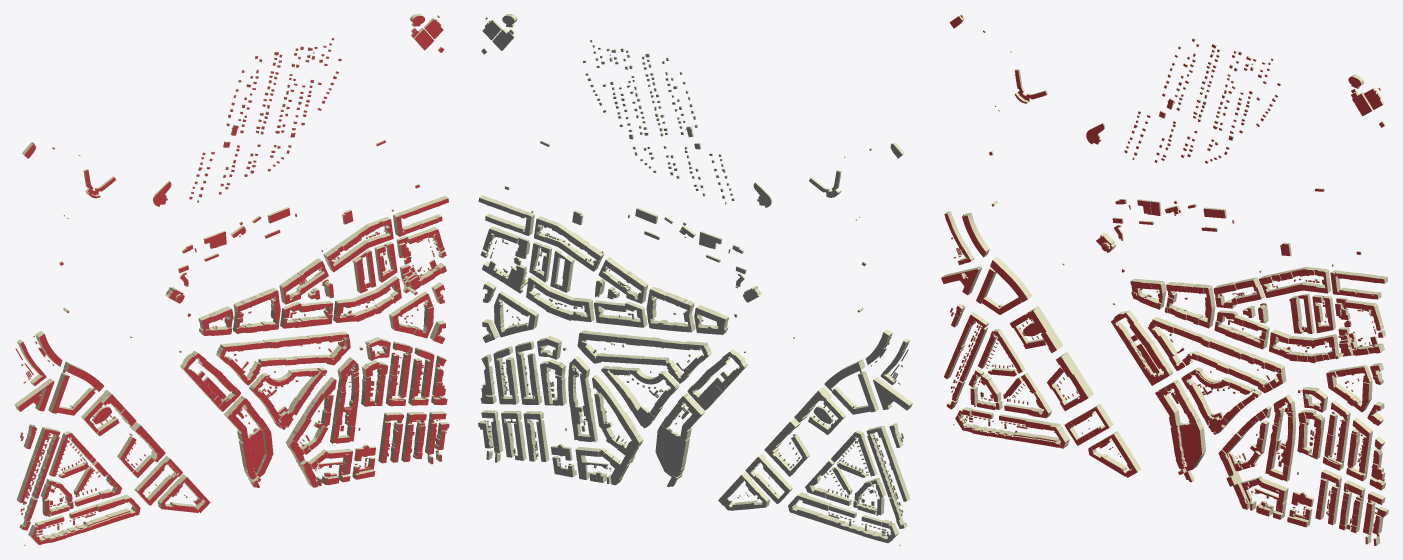
The picture shows the model from 3 angles, left to right: view 1: azimuth 30°, elevation 25°; view 2: azimuth 150°, elevation 25°; view 3: azimuth 330°, elevation 25°; orthographic projection. The views are drawn at different scales.
Visible parts, largest first — view 1: NL.IMBAG.Pand.0599100000702528-722, NL.IMBAG.Pand.0599100000750780-674, NL.IMBAG.Pand.0599100000618753-409; view 2: NL.IMBAG.Pand.0599100000702528-722, NL.IMBAG.Pand.0599100000750780-674, NL.IMBAG.Pand.0599100000618753-409; view 3: NL.IMBAG.Pand.0599100000702528-722, NL.IMBAG.Pand.0599100000750780-674, NL.IMBAG.Pand.0599100000752381-530, NL.IMBAG.Pand.0599100000759317-389, NL.IMBAG.Pand.0599100000675824-412, NL.IMBAG.Pand.0599100000618753-409.
Boxes of the visible parts, x1,y1,x2,y2 form: NL.IMBAG.Pand.0599100000702528-722: (238, 426, 273, 480); NL.IMBAG.Pand.0599100000750780-674: (286, 438, 318, 487); NL.IMBAG.Pand.0599100000618753-409: (14, 378, 54, 411); NL.IMBAG.Pand.0599100000702528-722: (655, 424, 690, 477); NL.IMBAG.Pand.0599100000750780-674: (609, 435, 643, 485); NL.IMBAG.Pand.0599100000618753-409: (873, 377, 912, 410); NL.IMBAG.Pand.0599100000702528-722: (1169, 419, 1206, 473); NL.IMBAG.Pand.0599100000750780-674: (1218, 449, 1251, 509); NL.IMBAG.Pand.0599100000752381-530: (1056, 352, 1093, 402); NL.IMBAG.Pand.0599100000759317-389: (1024, 306, 1063, 352); NL.IMBAG.Pand.0599100000675824-412: (990, 257, 1031, 302); NL.IMBAG.Pand.0599100000618753-409: (941, 266, 982, 295).
Size of the model in its own units: 1028 by 1025 by 43.77.
